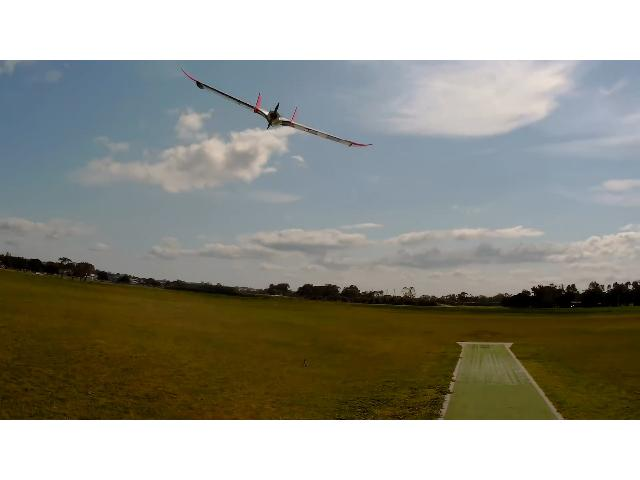Anti-Drone: (181, 68, 373, 148)
